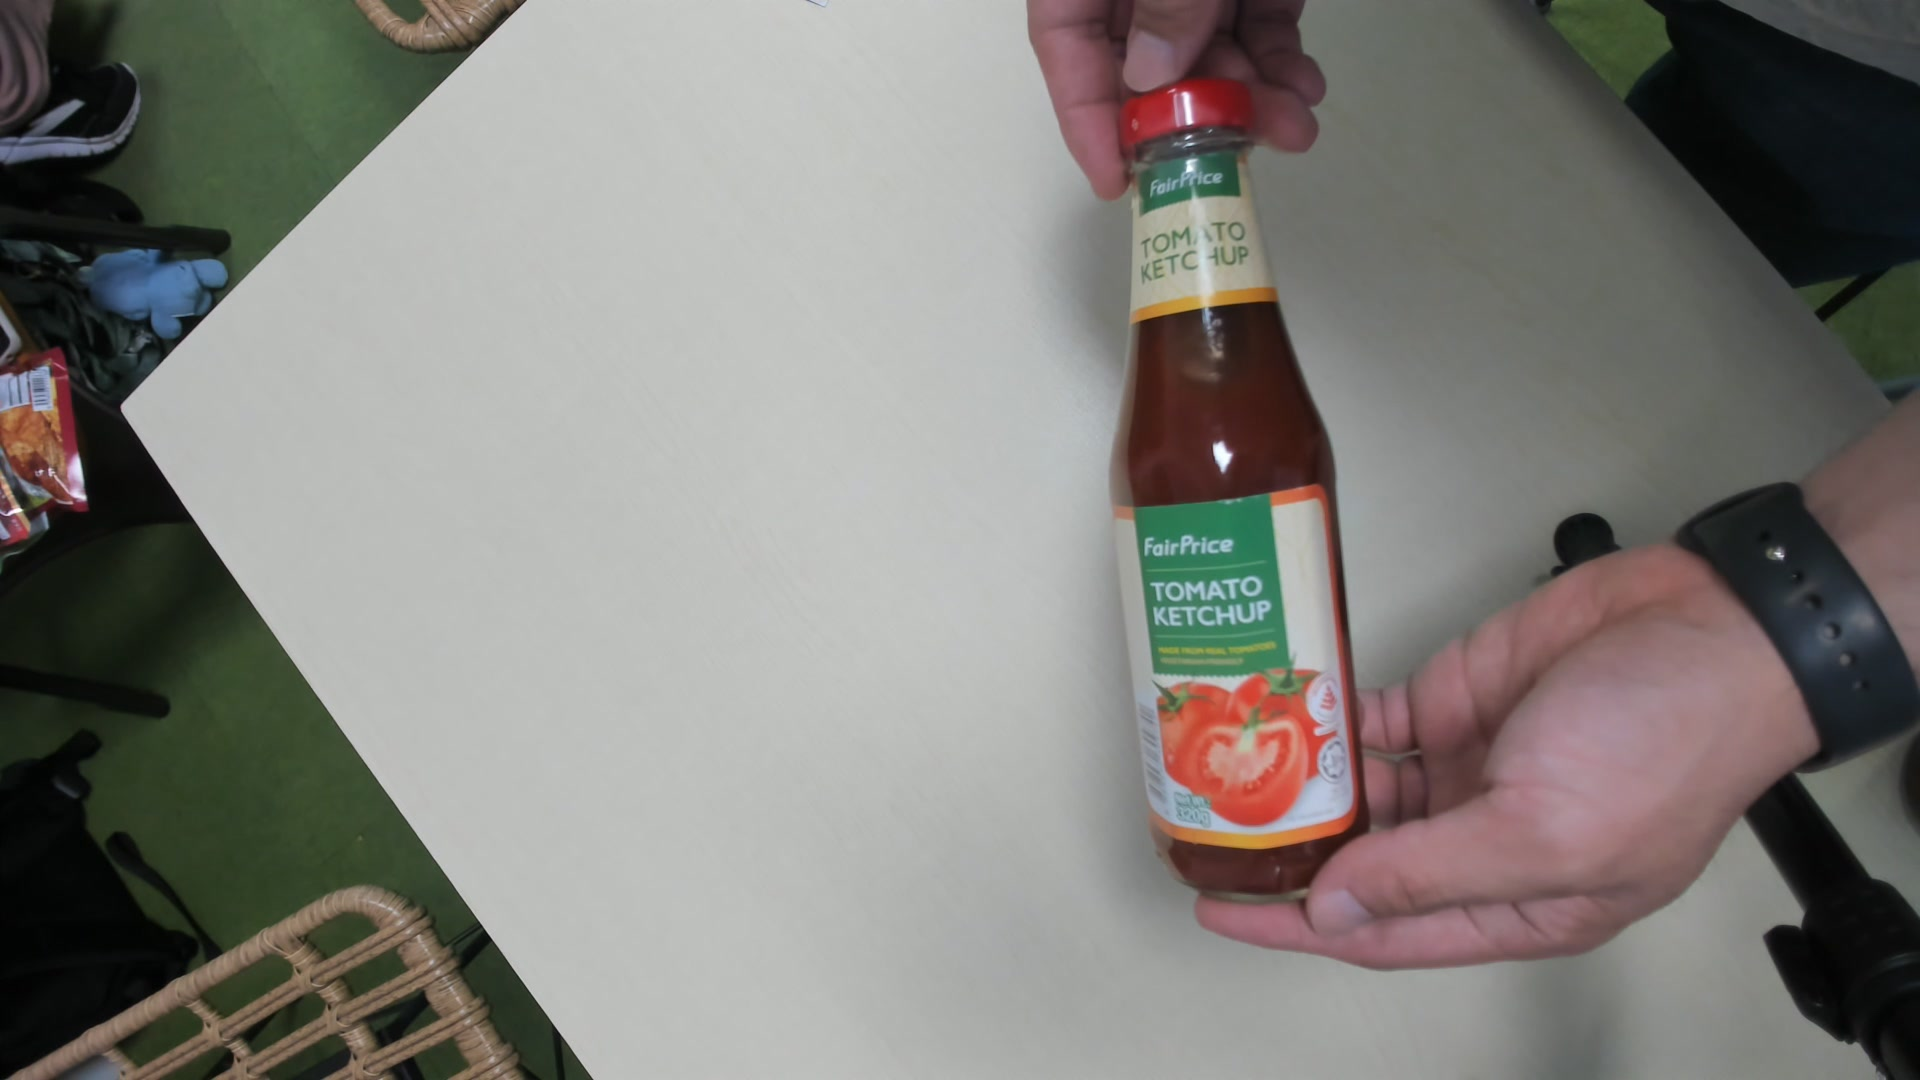KetchupChillSauce_300-399g_Halal_Healthy: (1104, 83, 1375, 910)
